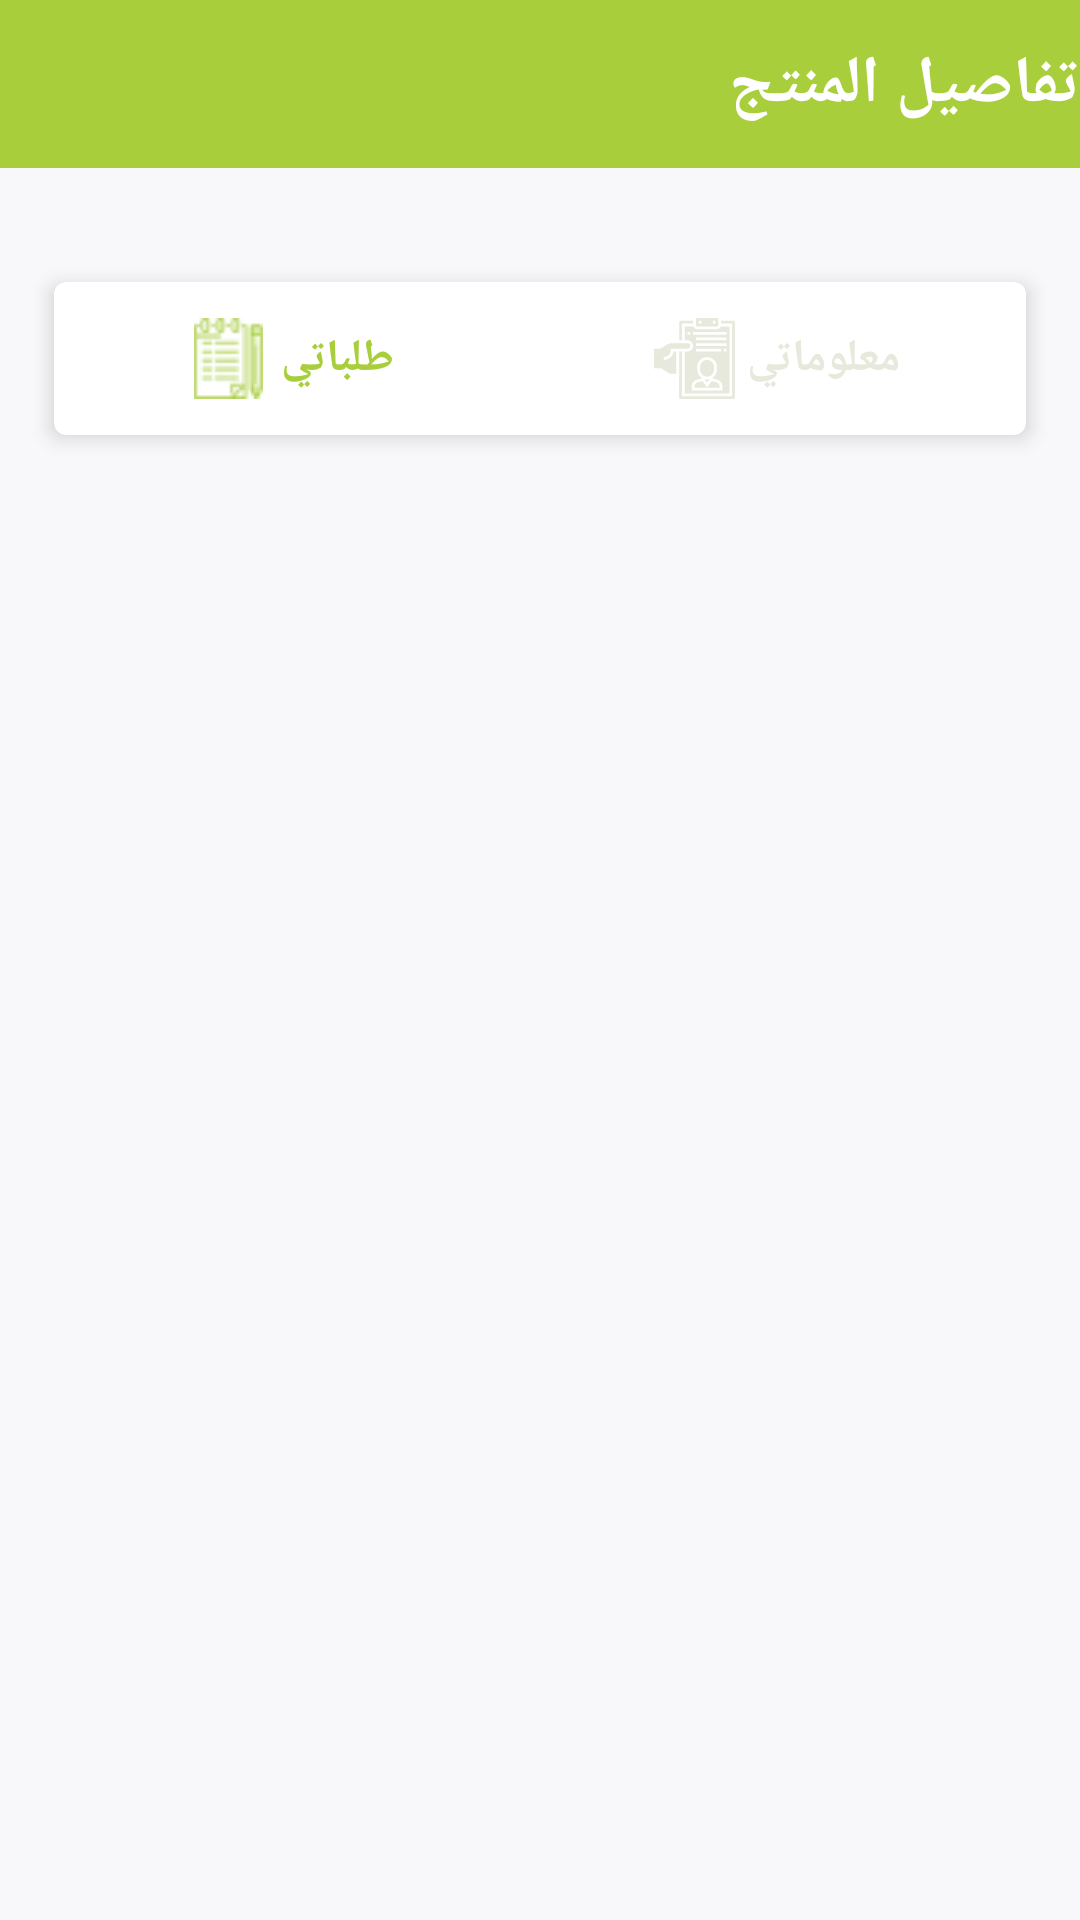

Screen size 1080x1920. Icon name, then its box in pixels as (x1, y1, x2, y2):
info: (654, 318, 735, 399)
order: (194, 318, 263, 399)
